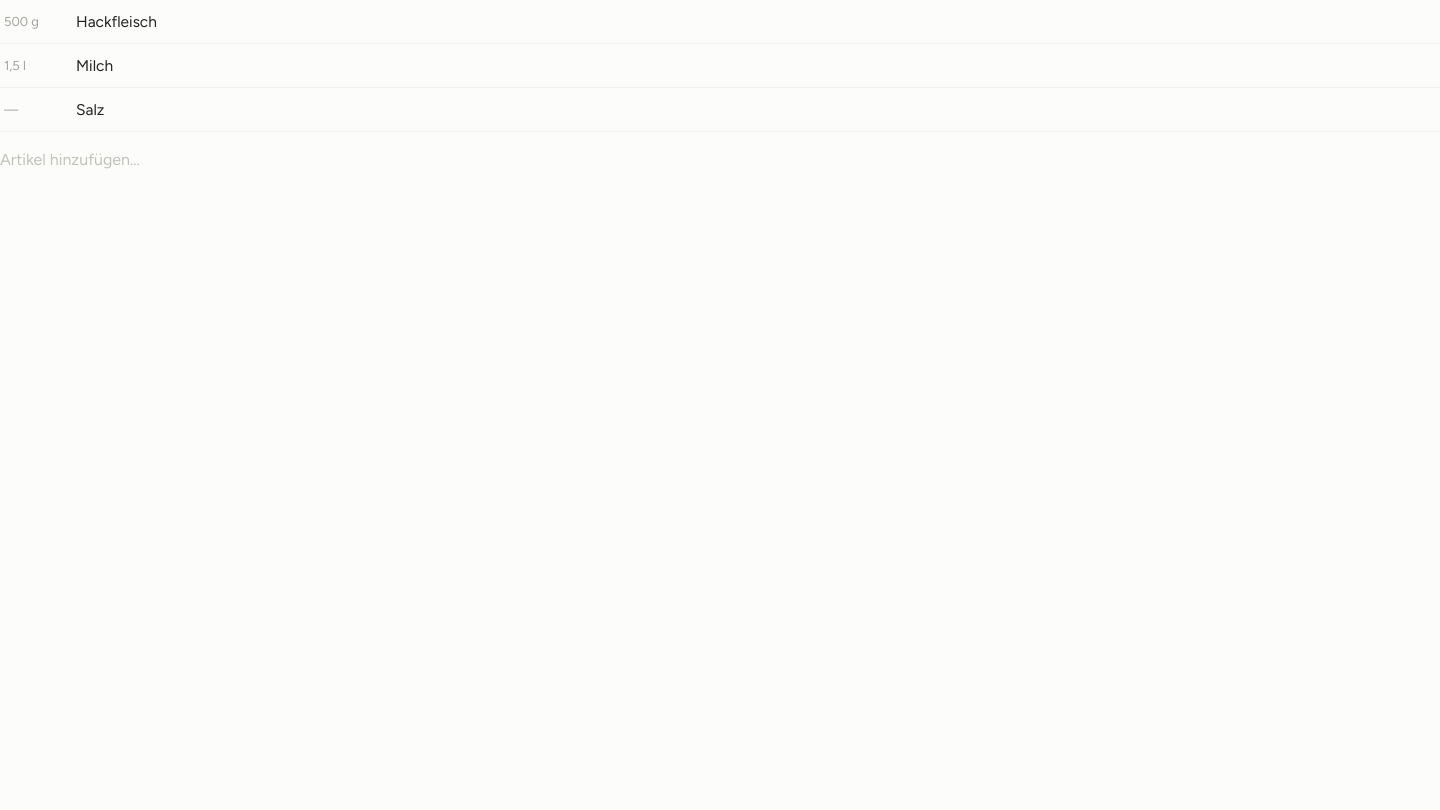
Test case: RecipeDetail › opens the line sheet when a line is tapped
Click the button "500 g Hackfleisch" at (21, 22), box [0, 0, 1439, 44]
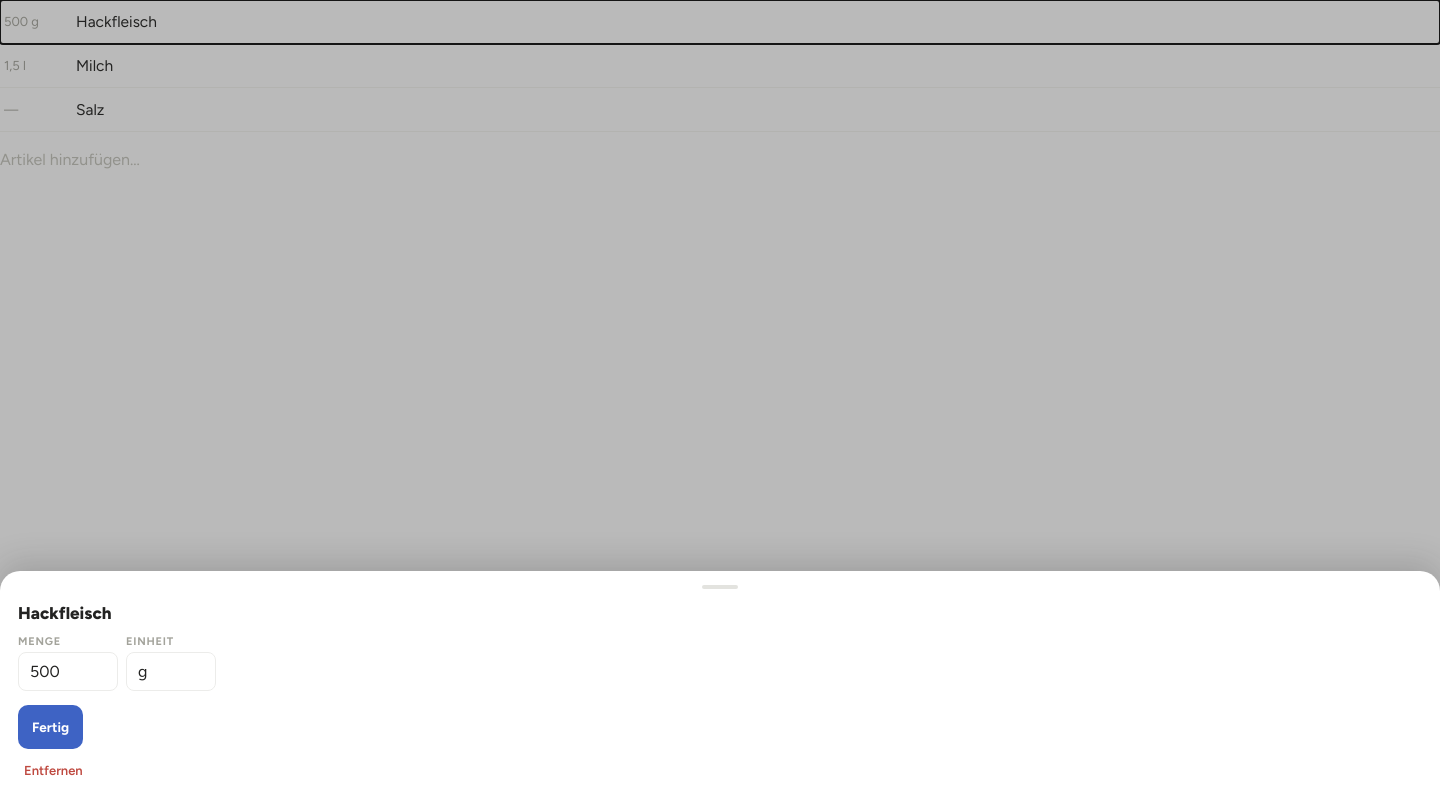
expect the dialog "Hackfleisch" is shown: met, box [0, 571, 1439, 809]
expect the field labelled "Menge" holds "500": met, box [18, 652, 118, 691]
